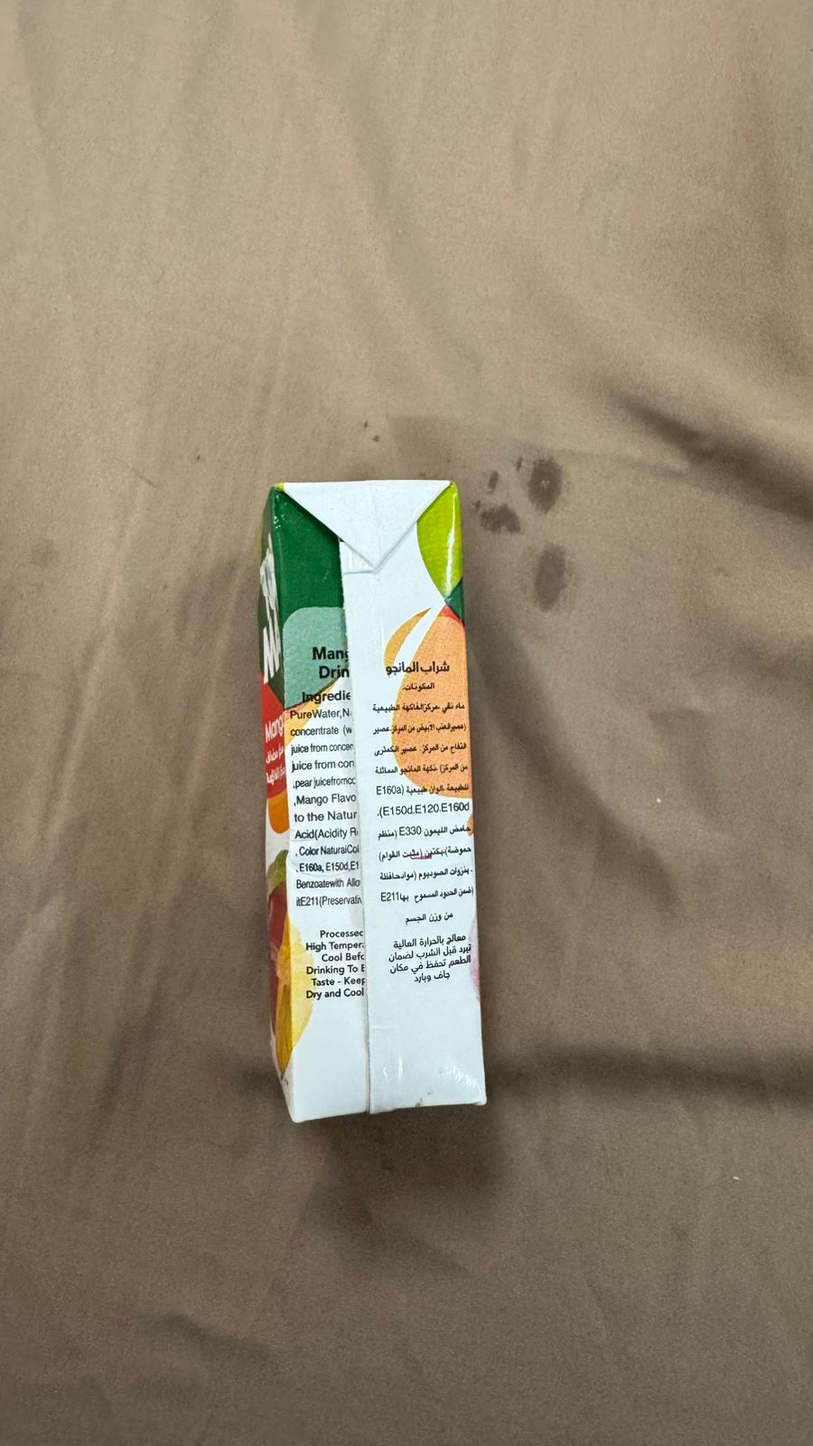paper: (81, 235, 732, 1392)
